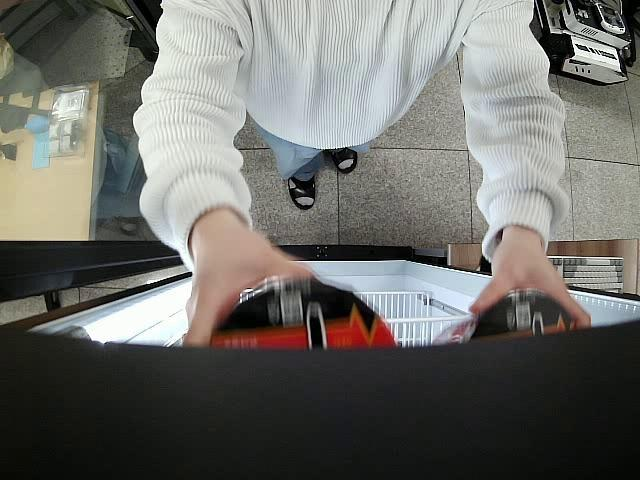01_ShinRamen_L: (208, 278, 400, 353), (436, 290, 574, 344)
